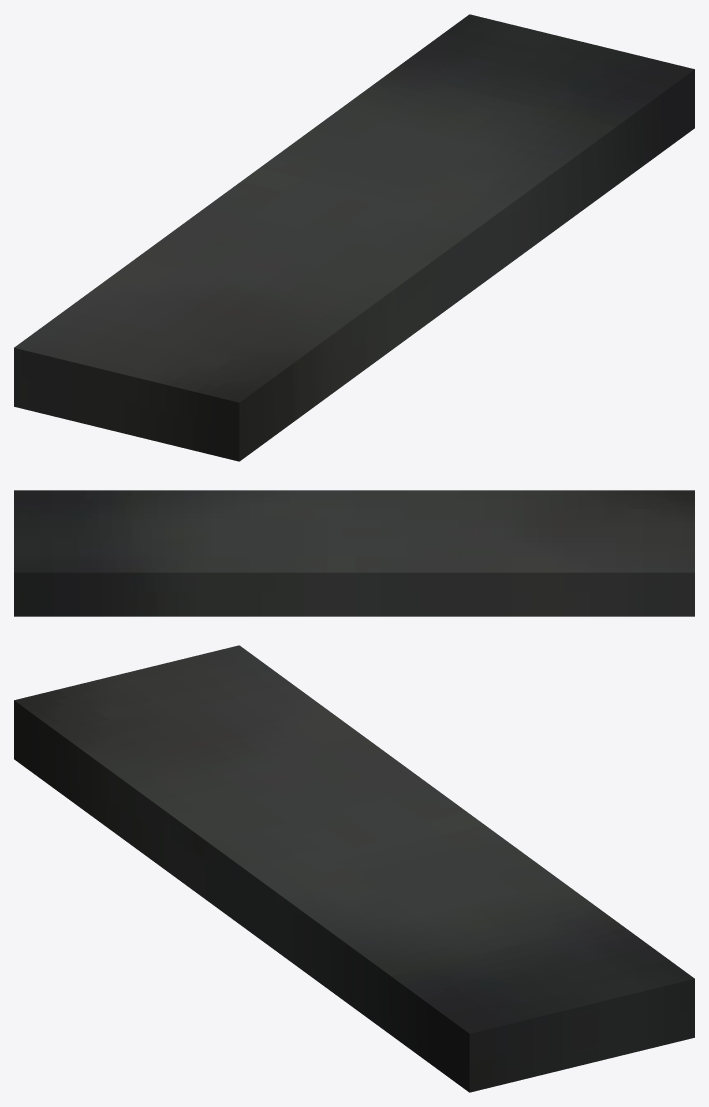
Rendered from frame__gauge_tick_6.glb.
3 views of the same model, one above another, from view 1: azimuth 30°, elevation 25°; view 2: azimuth 150°, elevation 25°; view 3: azimuth 270°, elevation 25° (orthographic). The views are drawn at different scales.
Parts seen in each view (by area): view 1: geometry_0; view 2: geometry_0; view 3: geometry_0.
Part boxes in pixels (x1,y1,x2,y2): geometry_0: (14, 14, 694, 461); geometry_0: (14, 490, 694, 616); geometry_0: (14, 645, 694, 1092).
Bounding box in the file's own units: 0.0141 × 0.001 × 0.0105.
Materials: 1 (1 with a texture image).
